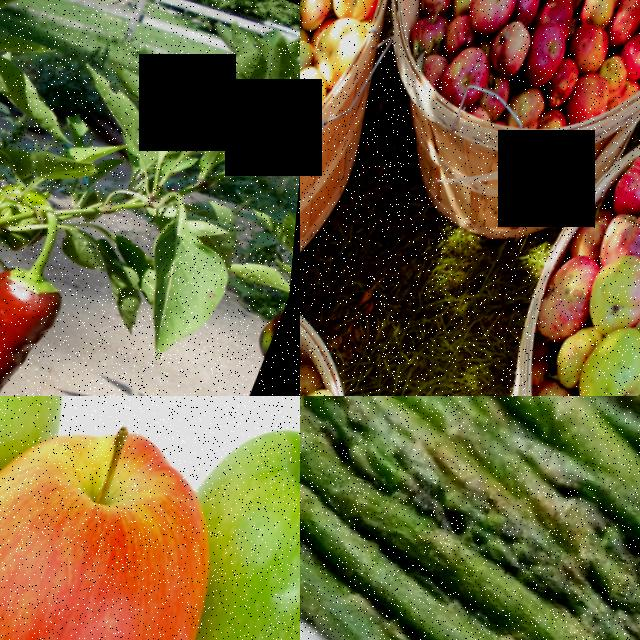apple: (0, 396, 264, 640), (155, 396, 300, 640), (529, 222, 619, 354), (300, 0, 378, 88), (567, 305, 640, 396), (434, 36, 509, 116), (583, 232, 640, 335), (551, 311, 617, 390), (510, 12, 574, 92), (560, 58, 623, 132), (495, 71, 559, 142), (589, 185, 640, 273), (539, 39, 595, 113), (560, 12, 621, 70), (432, 2, 486, 57), (605, 132, 640, 215), (485, 12, 535, 70), (300, 53, 339, 123), (461, 0, 527, 37), (599, 0, 640, 48), (614, 21, 640, 80), (300, 326, 321, 396), (300, 0, 347, 30), (575, 0, 624, 27), (320, 0, 389, 18), (300, 26, 321, 81), (408, 0, 460, 19), (494, 0, 525, 28)
peper: (0, 257, 84, 396)
